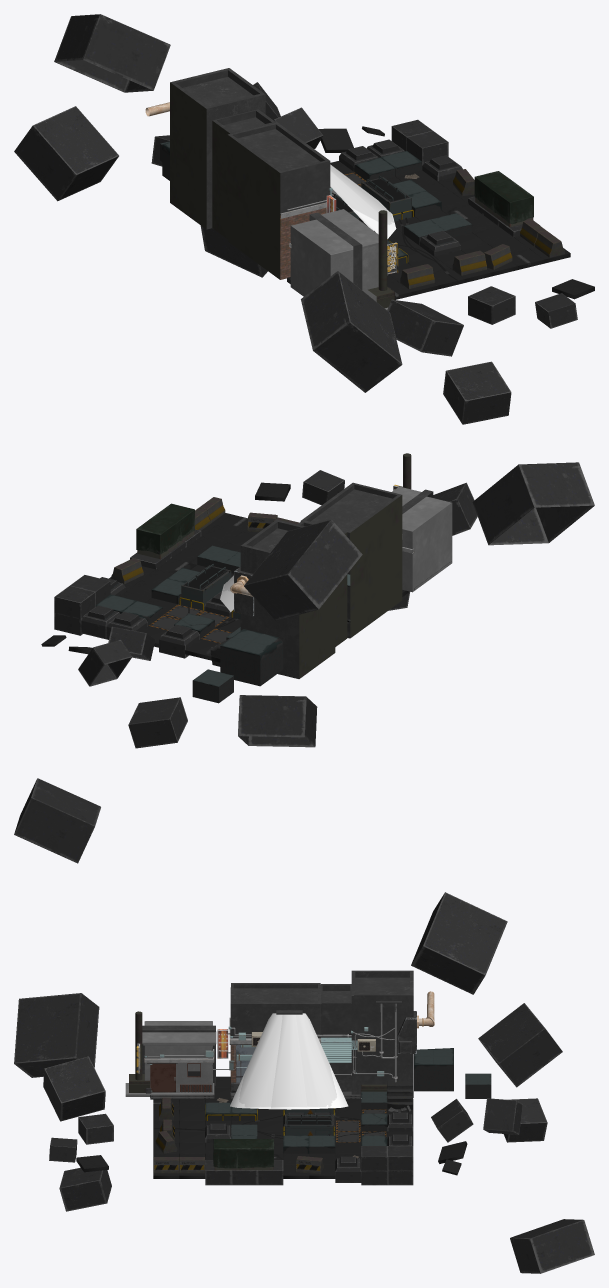
Rendered from level_main_02-05.fbx.
3 views of the same model, one above another, from view 1: azimuth 30°, elevation 25°; view 2: azimuth 150°, elevation 25°; view 3: azimuth 270°, elevation 25° (orthographic). The views are drawn at different scales.
Parts seen in each view (by area): view 1: S_Outworld_prop_longmen_0191, S_Outworld_prop_longmen_0171, S_Outworld_prop_longmen_0176, S_Outworld_prop_longmen_0181, S_Outworld_prop_longmen0, S_Outworld_prop_longmen_0186, S_Outworld_prop_longmen_0210, S_Outworld_light_mesh2, S_Outworld_prop_015, S_Ground_tiles_longmen_0210, S_Outworld_grid_fix, S_Outworld_grid_fix3 (+10 smaller); view 2: S_Outworld_prop_longmen_0191, S_Outworld_prop_longmen_0171, S_Outworld_prop_longmen_0176, S_Outworld_prop_longmen_0181, S_Outworld_prop_longmen_086, S_Outworld_prop_longmen_0210, S_Outworld_prop_longmen0, S_Outworld_prop_015, S_Ground_tiles_longmen_0211, S_Outworld_grid_fix6, S_Outworld_prop_longmen_0186, S_Outworld_grid_fix4 (+7 smaller); view 3: S_Outworld_prop_longmen_0191, S_Outworld_prop_longmen0, S_Outworld_prop_longmen_0176, S_Outworld_light_mesh2, S_Outworld_prop_longmen_0171, S_Outworld_light_mesh1, S_Outworld_prop_longmen_0181, S_Outworld_prop_longmen_0186, S_Outworld_prop_longmen_0210, S_Outworld_prop_longmen_086, S_Outworld_prop_015, S_Outworld_prop_longmen_0104 (+10 smaller).
Boxes of the visible parts, x1,y1,x2,y2 form: S_Outworld_prop_longmen_0191: (14, 14, 594, 424); S_Outworld_prop_longmen_0171: (227, 122, 330, 279); S_Outworld_prop_longmen_0176: (170, 68, 265, 229); S_Outworld_prop_longmen_0181: (290, 219, 378, 301); S_Outworld_prop_longmen0: (145, 102, 398, 310); S_Outworld_prop_longmen_0186: (212, 109, 275, 238); S_Outworld_prop_longmen_0210: (474, 171, 533, 226); S_Outworld_light_mesh2: (330, 166, 396, 238); S_Outworld_prop_015: (361, 177, 411, 221); S_Ground_tiles_longmen_0210: (407, 131, 448, 164); S_Outworld_grid_fix: (419, 230, 460, 256); S_Outworld_grid_fix3: (422, 155, 462, 181); S_Outworld_prop_longmen_0191: (14, 462, 594, 863); S_Outworld_prop_longmen_0171: (300, 482, 402, 638); S_Outworld_prop_longmen_0176: (240, 519, 335, 678); S_Outworld_prop_longmen_0181: (402, 496, 452, 592); S_Outworld_prop_longmen_086: (220, 629, 283, 686); S_Outworld_prop_longmen_0210: (136, 503, 194, 559); S_Outworld_prop_longmen0: (230, 453, 433, 616); S_Outworld_prop_015: (181, 565, 231, 610); S_Ground_tiles_longmen_0211: (54, 586, 95, 619); S_Outworld_grid_fix6: (159, 624, 199, 658); S_Outworld_prop_longmen_0186: (297, 521, 347, 646); S_Outworld_grid_fix4: (80, 605, 120, 639); S_Outworld_prop_longmen_0191: (14, 892, 594, 1273); S_Outworld_prop_longmen0: (125, 991, 434, 1099); S_Outworld_prop_longmen_0176: (351, 970, 413, 1097); S_Outworld_light_mesh2: (230, 1013, 348, 1108); S_Outworld_prop_longmen_0171: (230, 983, 320, 1091); S_Outworld_light_mesh1: (269, 1014, 309, 1109); S_Outworld_prop_longmen_0181: (144, 1021, 212, 1092); S_Outworld_prop_longmen_0186: (321, 984, 351, 1091); S_Outworld_prop_longmen_0210: (213, 1139, 274, 1170); S_Outworld_prop_longmen_086: (414, 1048, 453, 1091); S_Outworld_prop_015: (284, 1116, 335, 1135); S_Outworld_prop_longmen_0104: (387, 1081, 412, 1112).
Bounding box in the file's own units: 12.47 × 12.51 × 22.32.
4 materials, 4 textured.
